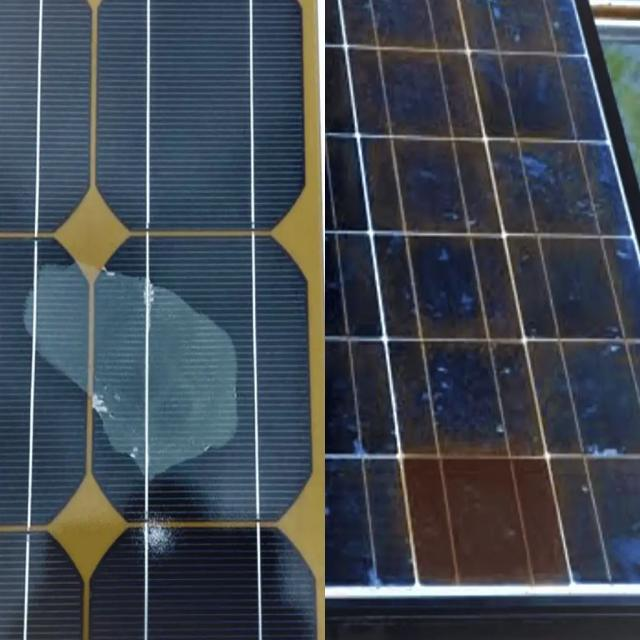electrical damage: (329, 5, 637, 596)
